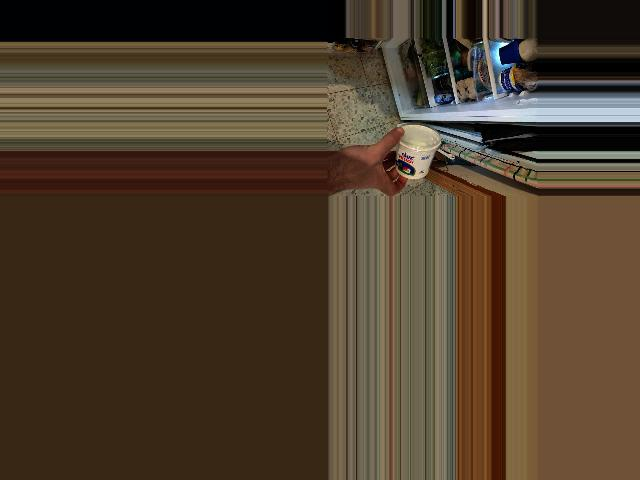cotage: (387, 122, 442, 181)
